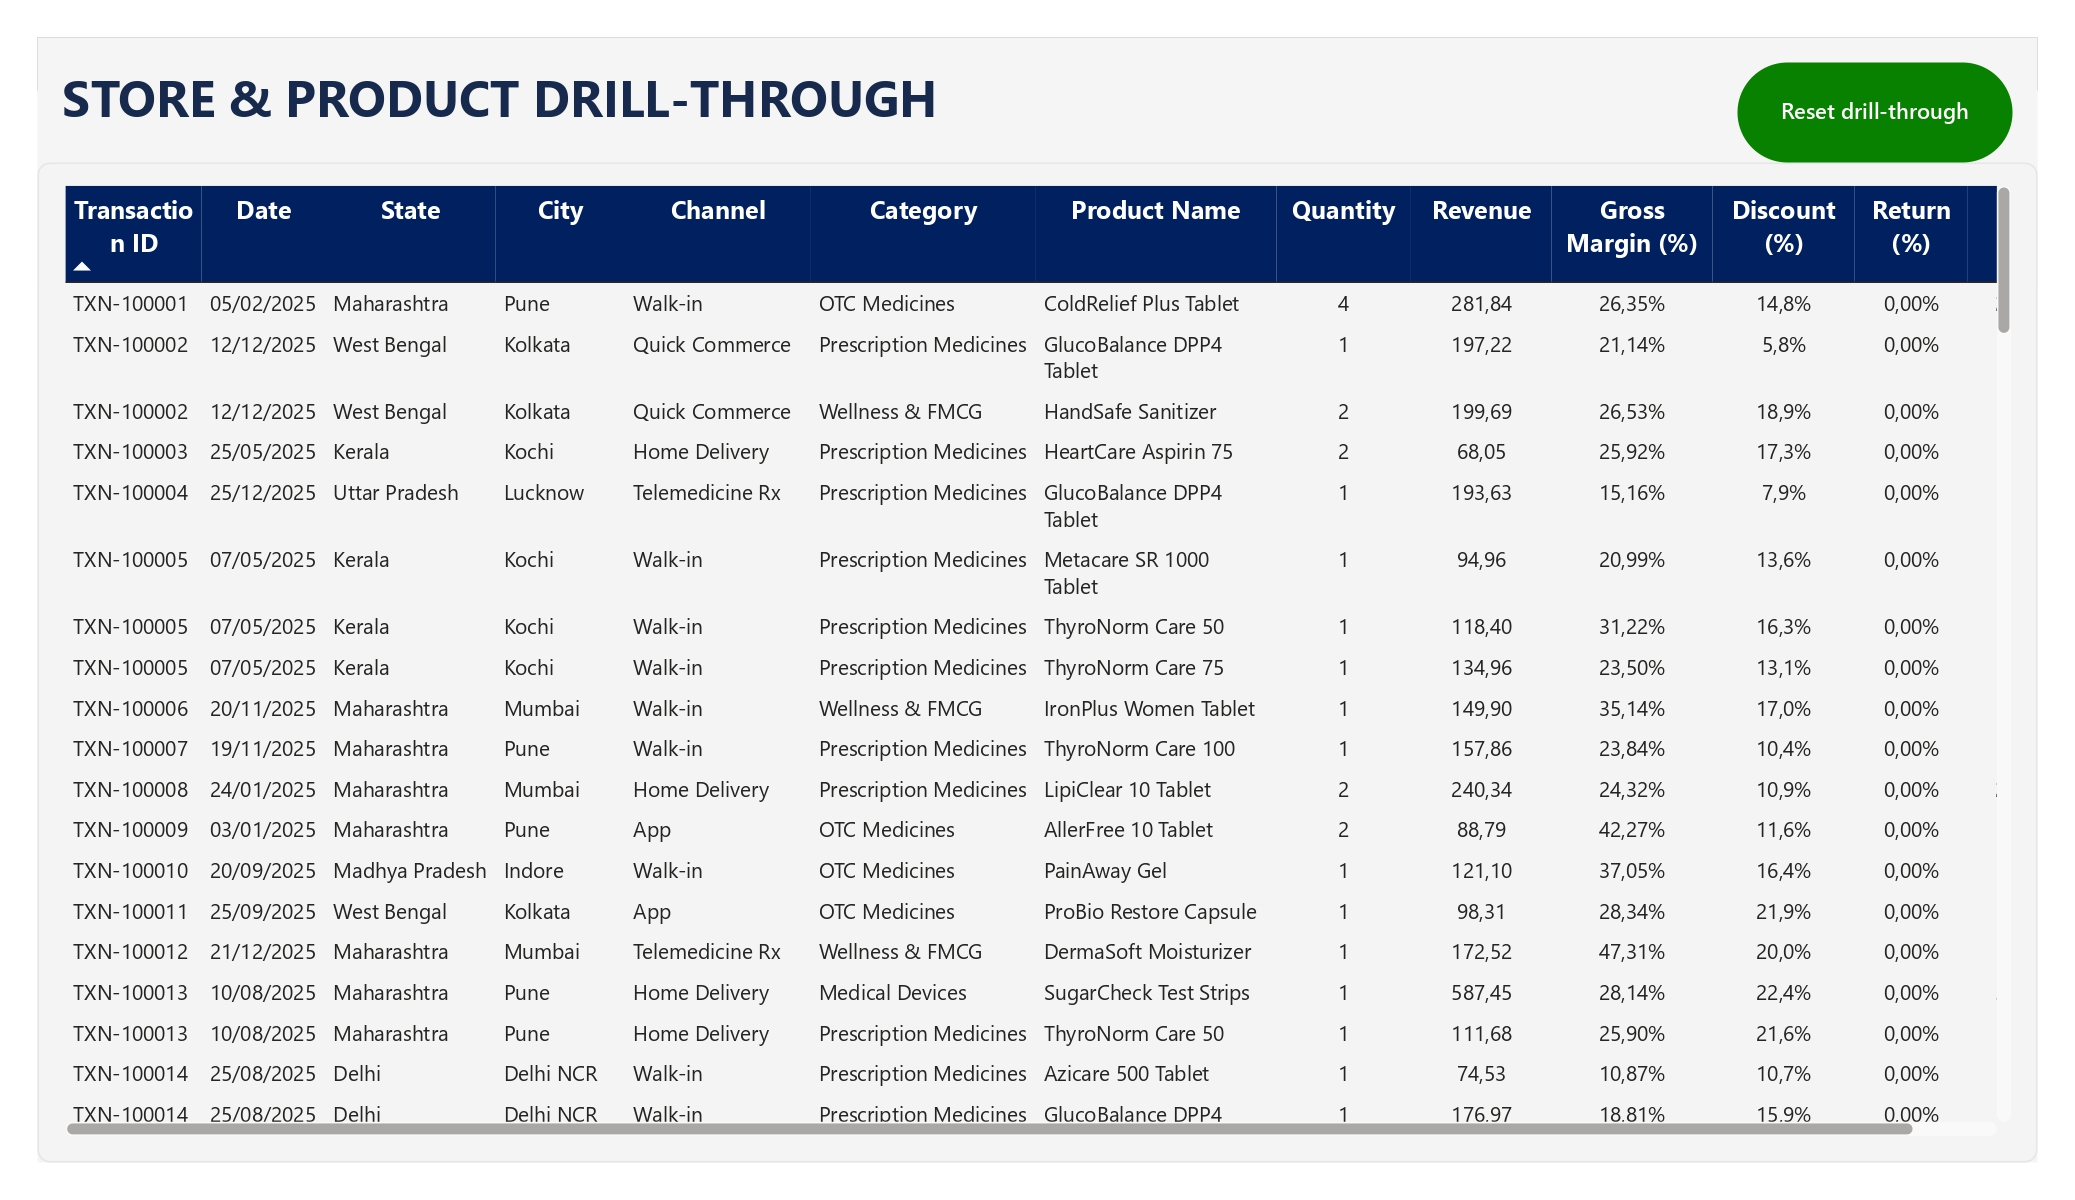

The page's visual inventory and layout, read from the dashboard file:
{"tool":"powerbi","page":{"name":"Drill-through Page","canvas":[1280,720],"ordinal":2},"visuals":[{"type":"tableEx","fields":{"Values":["Fact_Sales.Transaction_ID","Dim_Date.Date","Dim_Store.State","Dim_Store.City","Dim_Channel.Sales_Channel","Dim_Product.Category","Dim_Product.Product_Name","Fact_Sales.Quantity","_Measure.Relized Revenue","_Measure.Gross Margin %","_Measure.Discount%","_Measure.Return%"]},"box":[0,80,1280,640],"z":0},{"type":"actionButton","box":[1088,16,176,64],"z":1000},{"type":"textbox","box":[16,16,576,48],"z":2000}]}

Visuals, with their boxes on the page's 1280x720 design canvas (x1, y1, x2, y2). These are canvas units, not pixel positions in the 2075x1200 screenshot, which may show the page scaled, cropped or inside an application window:
tableEx - Fact_Sales.Transaction_ID x Dim_Date.Date: 0/80/1280/720
actionButton: 1088/16/1264/80
textbox: 16/16/592/64
